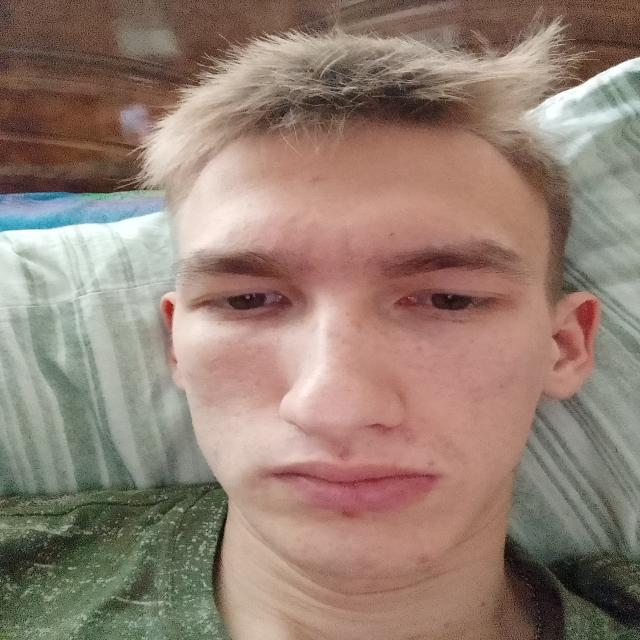Acne: (294, 171, 334, 184), (470, 384, 488, 409), (414, 550, 436, 570), (338, 509, 368, 520), (208, 438, 222, 459), (403, 429, 420, 446), (331, 448, 348, 463), (230, 406, 246, 420), (420, 458, 437, 471), (493, 381, 507, 391)
